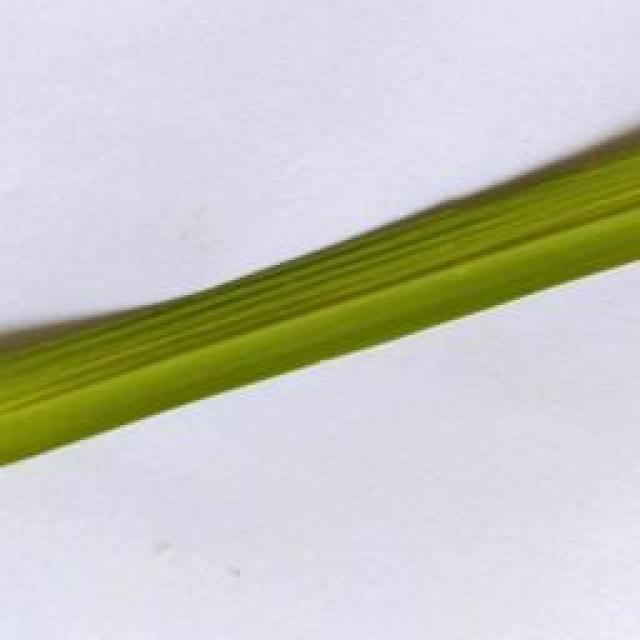Healthy-Plant: (0, 132, 640, 476)
